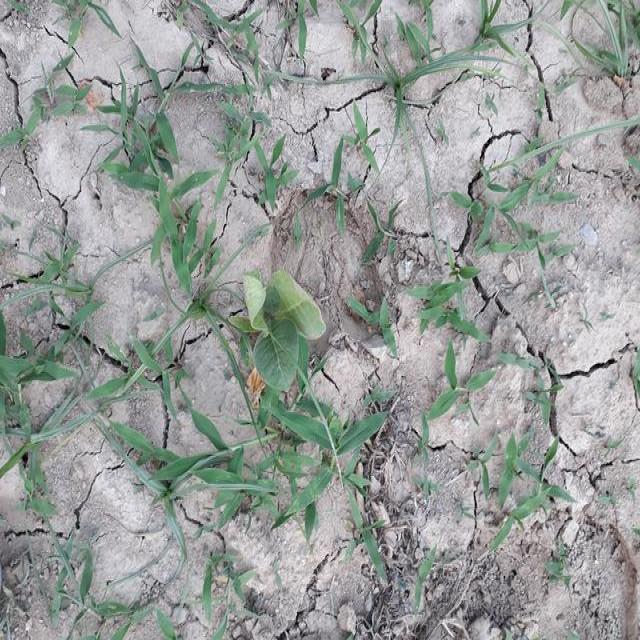crop: (229, 258, 333, 405)
